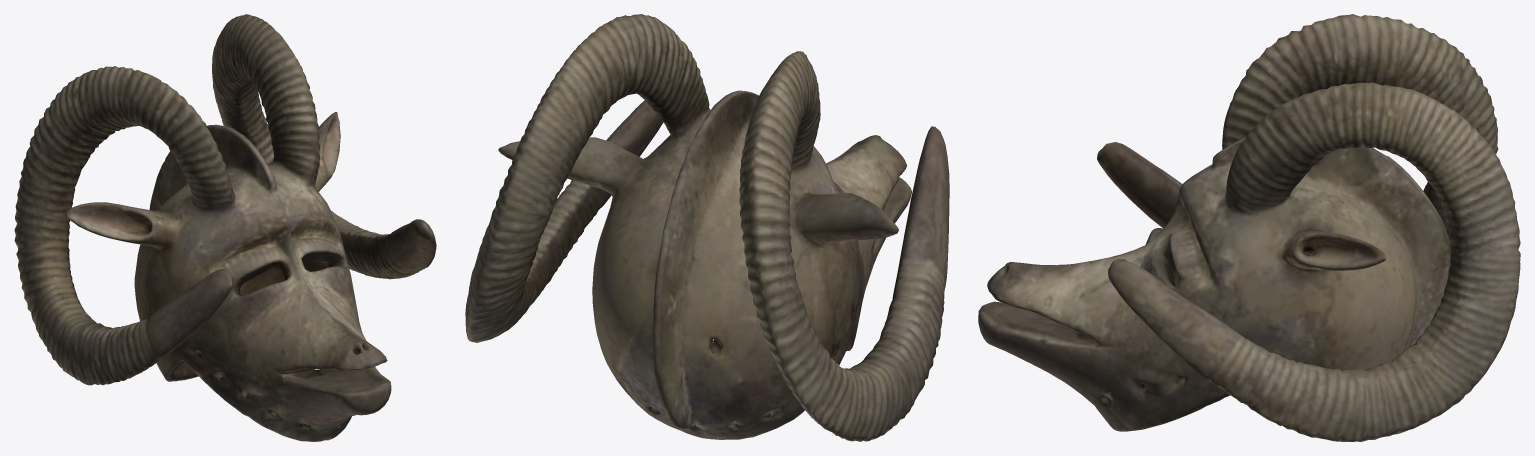
Rendered from cma-bobo-ram-mask.glb.
The picture shows the model from 3 angles, left to right: view 1: azimuth 30°, elevation 25°; view 2: azimuth 150°, elevation 25°; view 3: azimuth 270°, elevation 25°; orthographic projection. The views are drawn at different scales.
Parts seen in each view (by area): view 1: 2016.56_ram_mask_bolo; view 2: 2016.56_ram_mask_bolo; view 3: 2016.56_ram_mask_bolo.
Part boxes in pixels (x1,y1,x2,y2): 2016.56_ram_mask_bolo: (14, 14, 436, 441); 2016.56_ram_mask_bolo: (465, 14, 949, 441); 2016.56_ram_mask_bolo: (978, 14, 1520, 441).
Size of the model in its own units: 0.3742 by 0.36 by 0.4732.
Materials: 1 (1 with a texture image).
